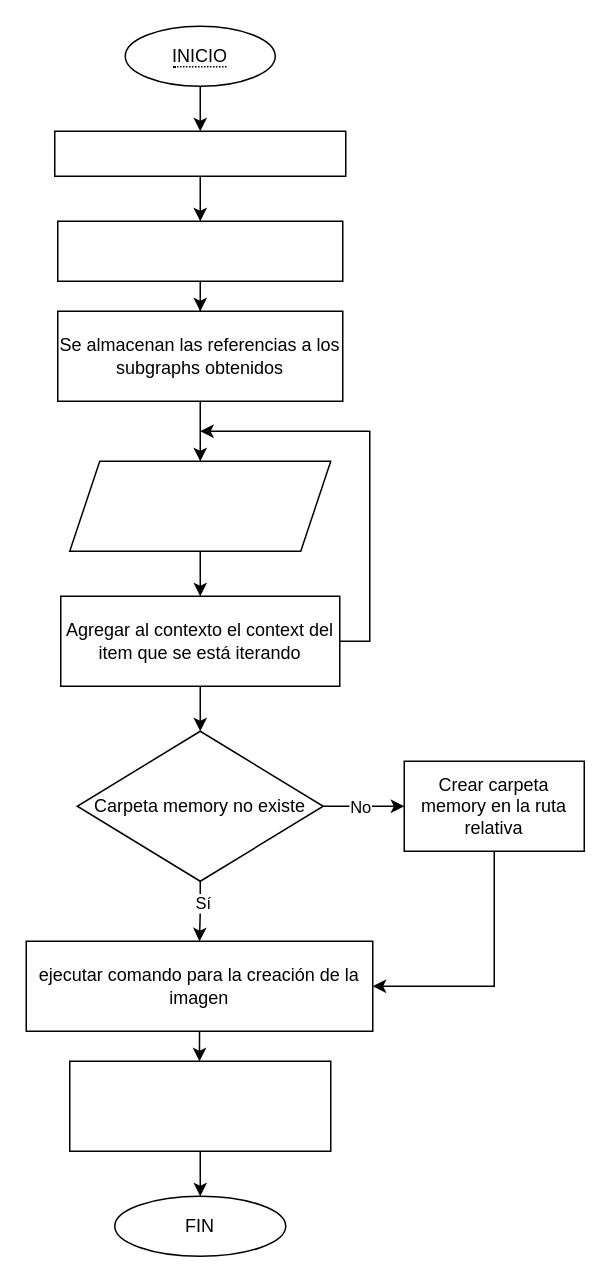
This 611x1283 diagram has some shape labels left out. The centre of each missing label's shape, as x and y in pixels:
"Cuando la cola no este vacía" goes at (x=199, y=505).
"eliminar archivo .dot" goes at (x=199, y=1105).
"Se crea encabezado del archivo .dot y cola de Subgraphs" goes at (x=199, y=250).
"Se instancia clase DotFile" goes at (x=199, y=153).
